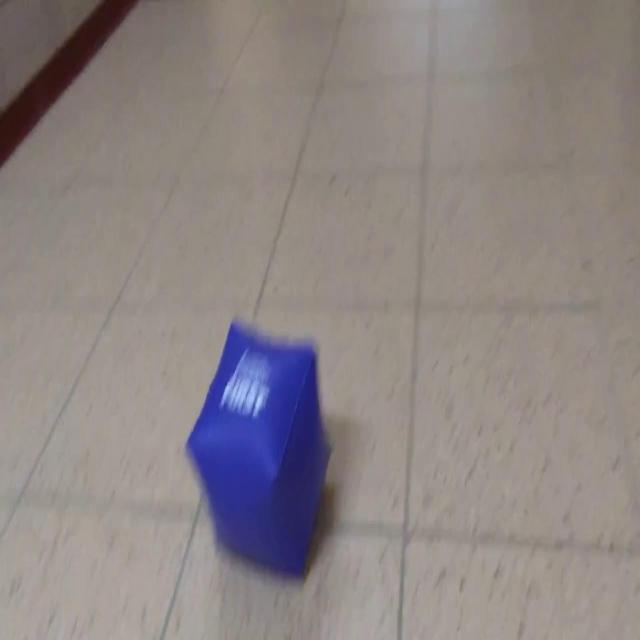frc_cube: (187, 323, 331, 583)
